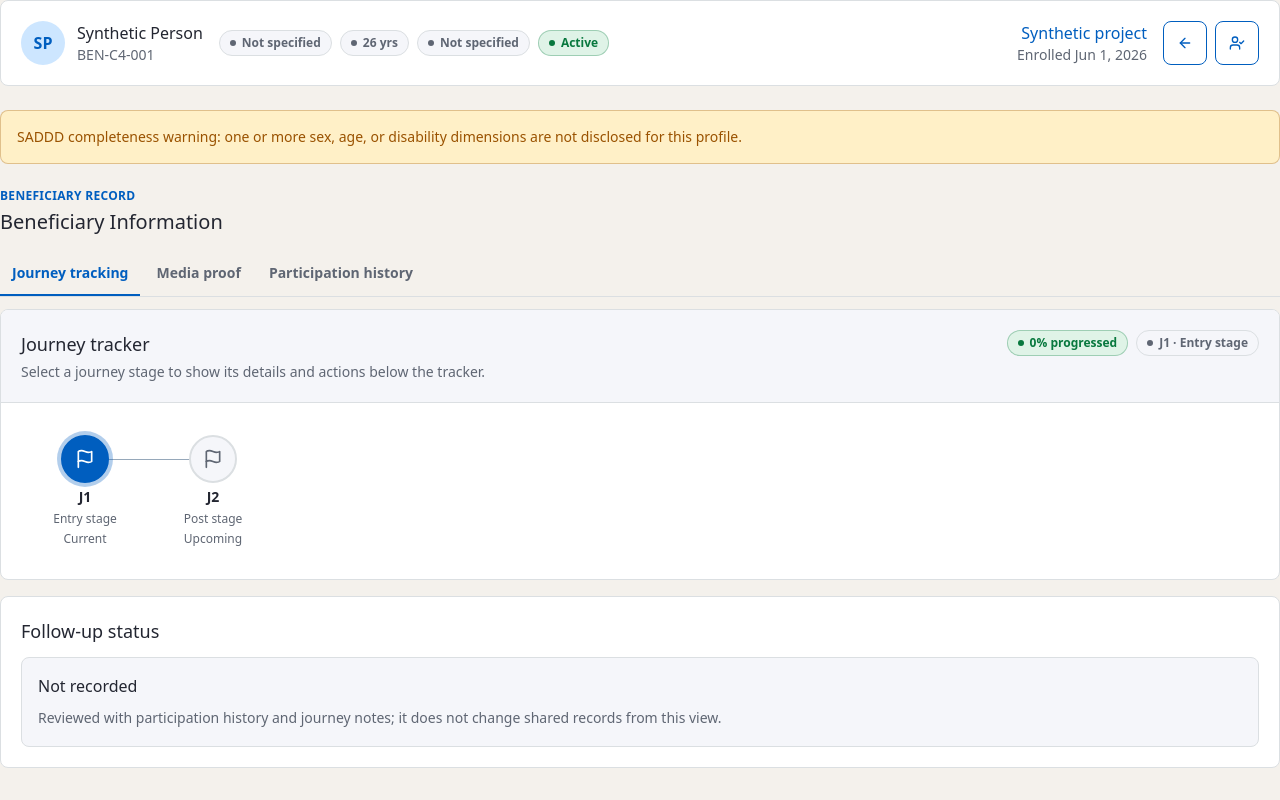
it: BeneficiaryDetail assessments › pairs a pre-test and a post-test that sit in different stages
Click the button "J1 Entry stage Current". click: (85, 491)
box: [37, 435, 133, 547]
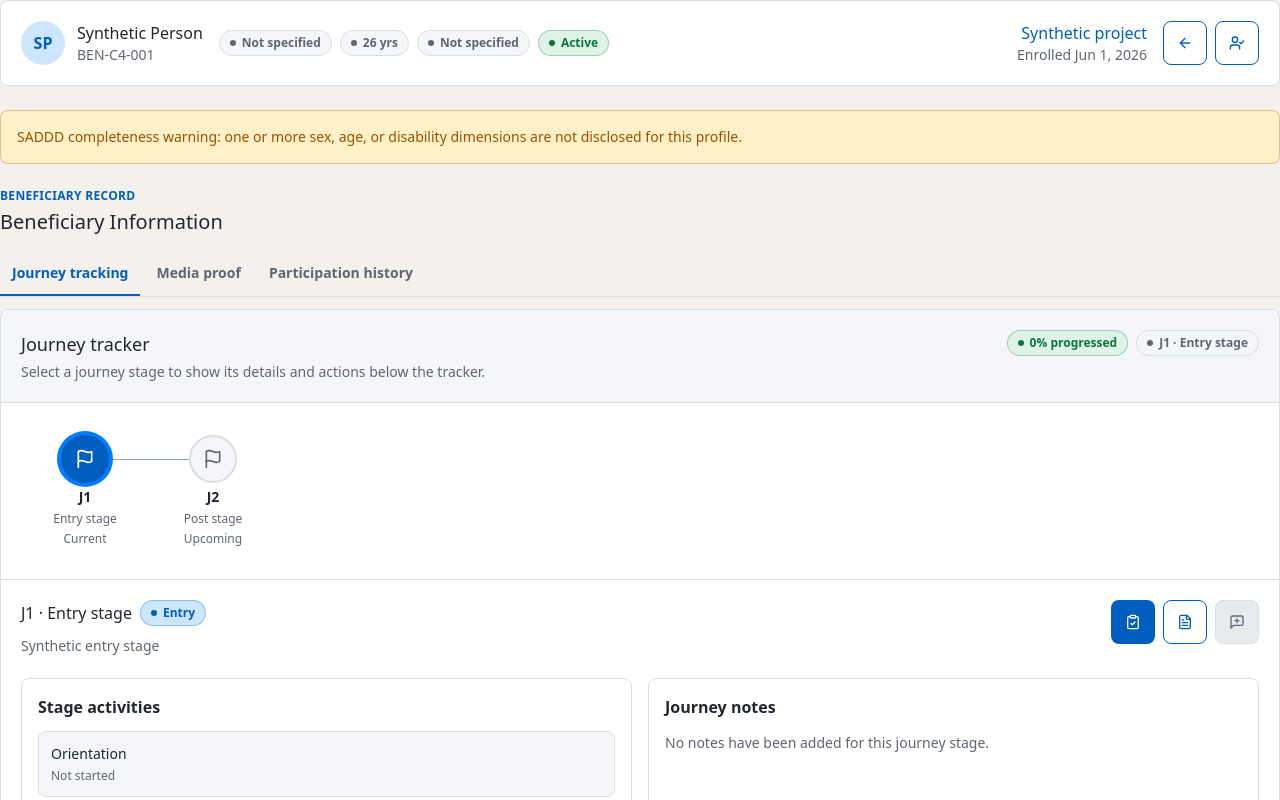
Now the button named "View assessment" is enabled
Click the button named "View assessment". click: (1185, 622)
box: [1163, 600, 1207, 644]
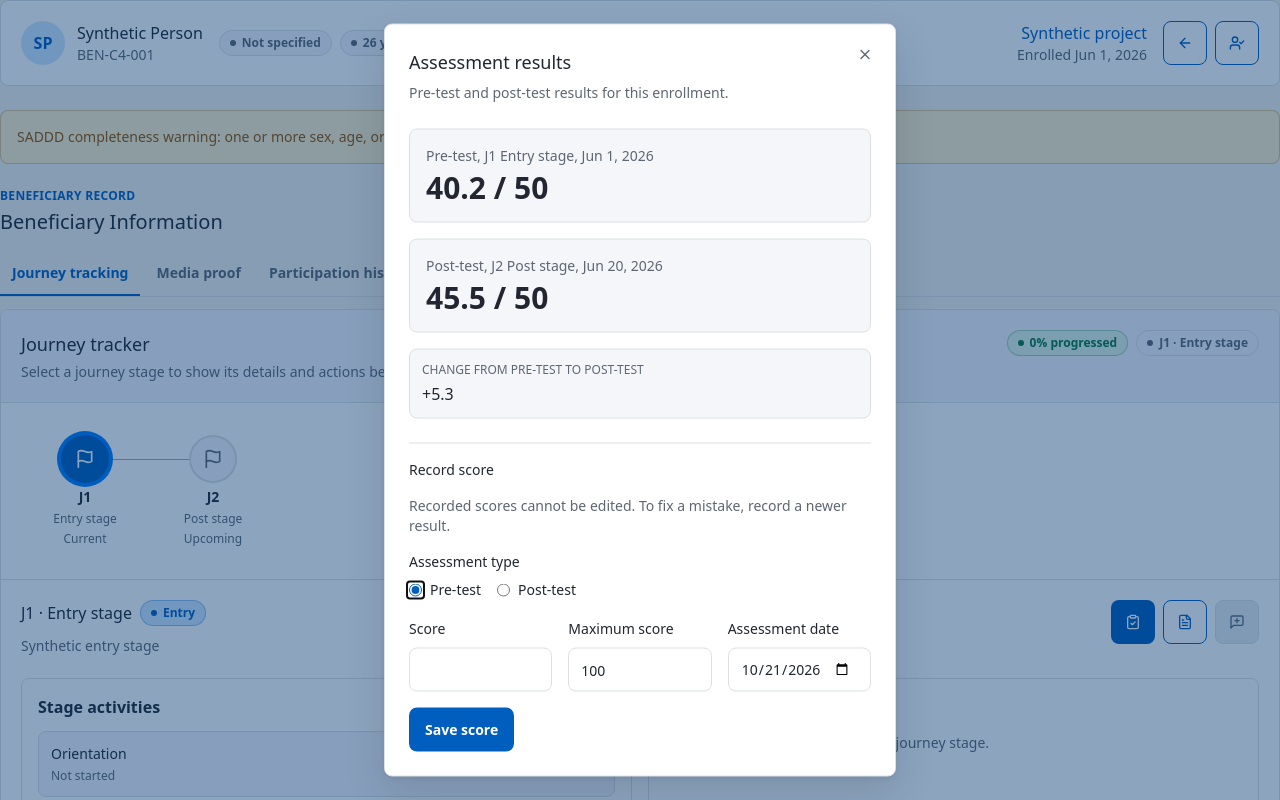
Now the dialog shows "J1 Entry stage", box [484, 146, 574, 164]
Now the dialog shows "J2 Post stage", box [491, 256, 575, 274]
Now the dialog shows "+5.3", box [422, 382, 454, 404]
